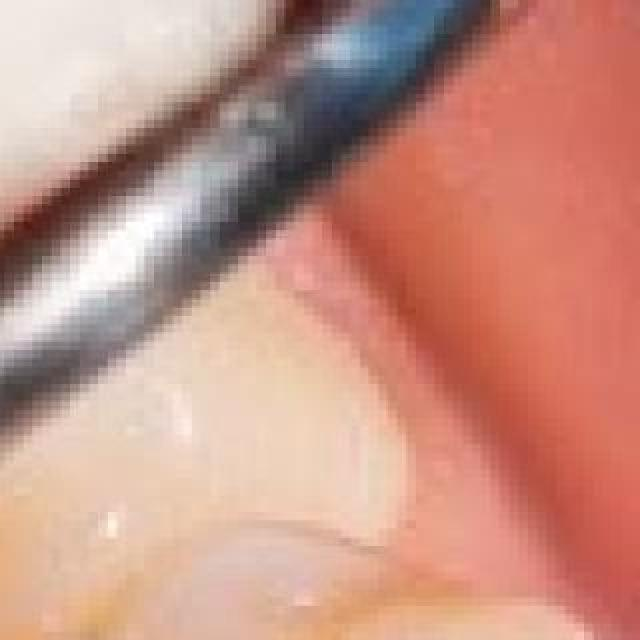cavities: (0, 582, 576, 640)
